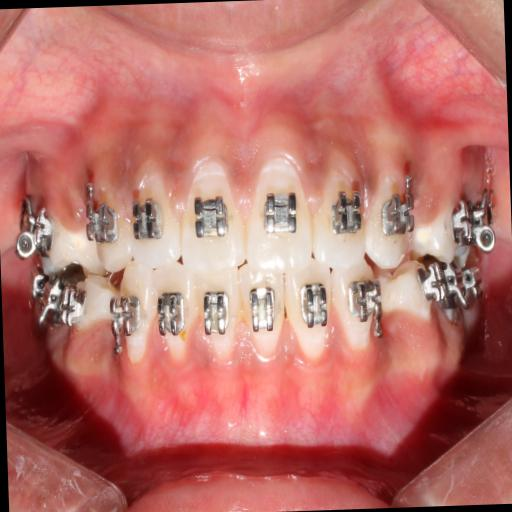correct_brace: (257, 186, 302, 237), (188, 189, 232, 239), (127, 188, 164, 247), (382, 188, 415, 241), (83, 199, 118, 247), (330, 188, 363, 238)
incorrect_brace: (312, 152, 372, 264), (128, 152, 176, 270)
